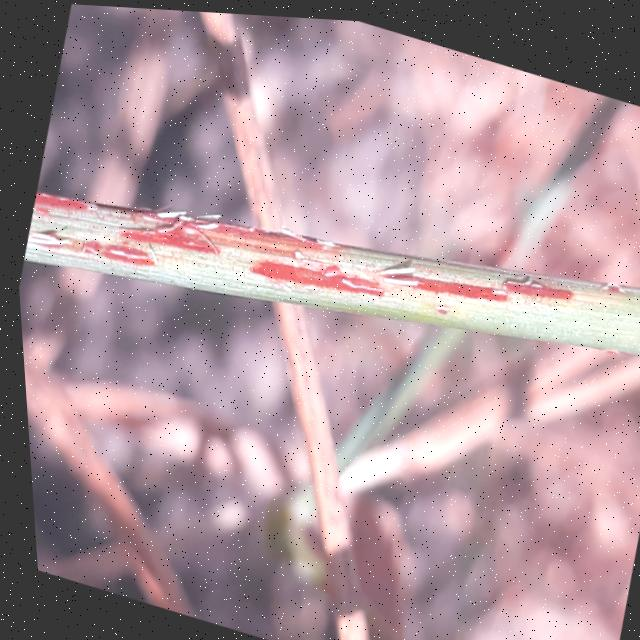black_stem_rust: (4, 84, 640, 477)
